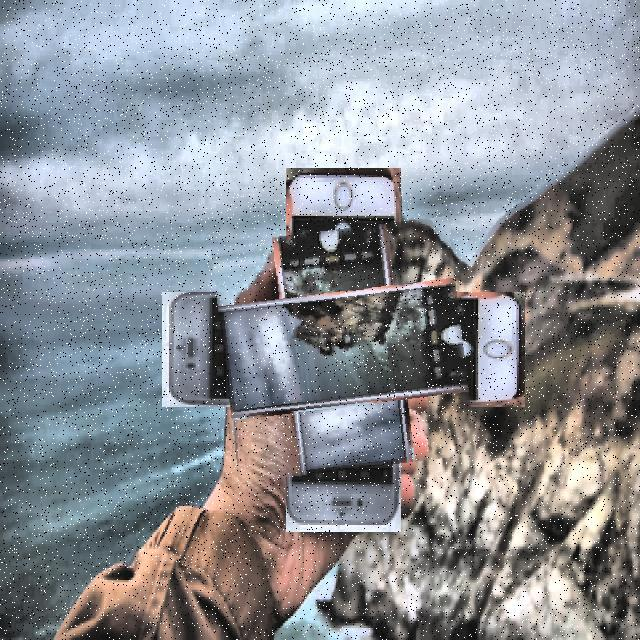Phone: (217, 224, 470, 476)
